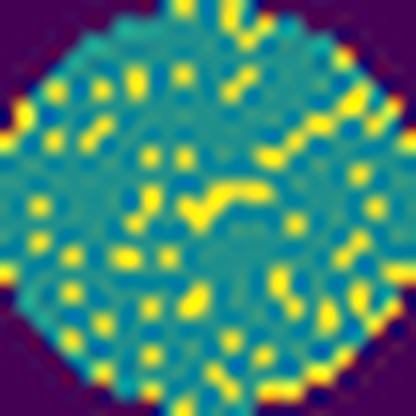Scratch: (252, 84, 364, 174), (170, 178, 274, 236)
